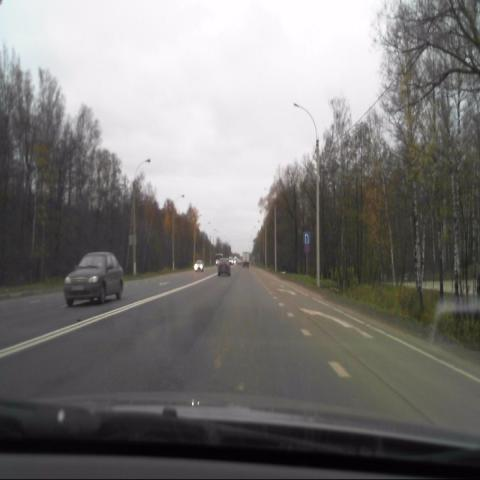5_15_5: (303, 231, 310, 241)
